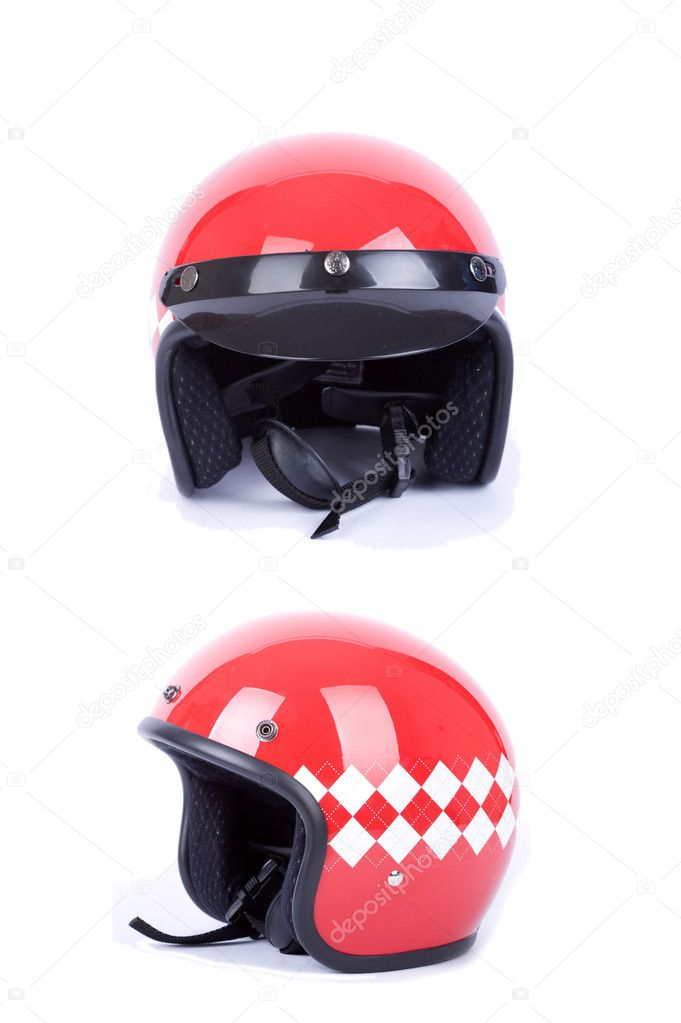with_helmet: (146, 121, 518, 530), (133, 600, 511, 966)
